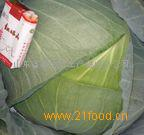cabbage: (1, 2, 134, 134)
